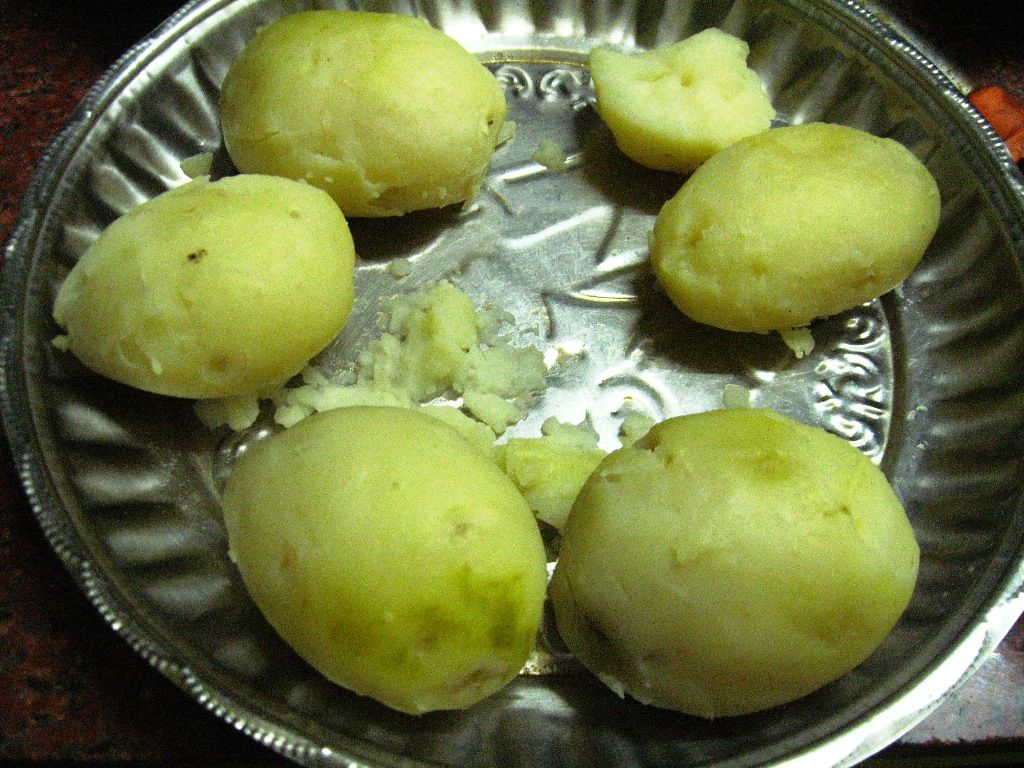boiled potatoes: (591, 404, 873, 697), (632, 112, 952, 297), (268, 412, 496, 668), (58, 181, 360, 366), (219, 53, 545, 189)
